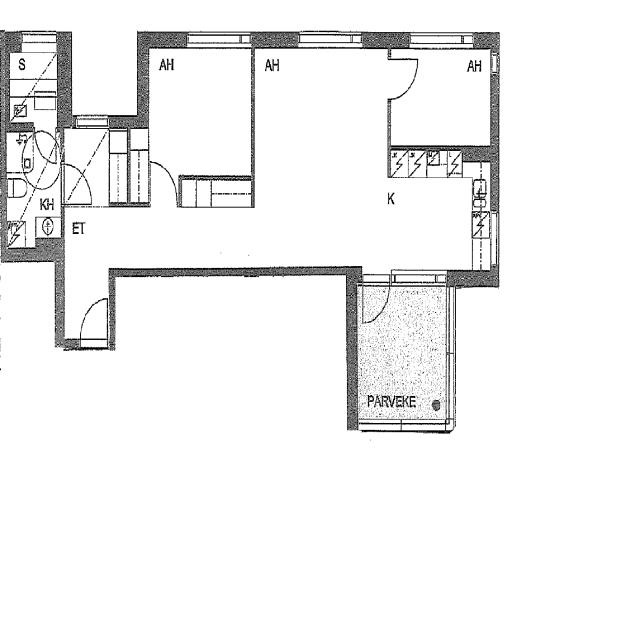door: (386, 51, 421, 102), (78, 293, 110, 345), (361, 281, 392, 326), (64, 161, 92, 200), (149, 158, 178, 194)
window: (406, 28, 478, 50), (298, 28, 364, 49), (186, 32, 248, 52), (71, 110, 112, 129), (491, 208, 500, 266)
zone: (254, 36, 388, 276), (146, 45, 254, 270), (386, 146, 496, 282), (354, 284, 450, 428), (388, 44, 493, 150), (2, 133, 63, 250), (63, 126, 148, 207), (4, 41, 59, 126)
